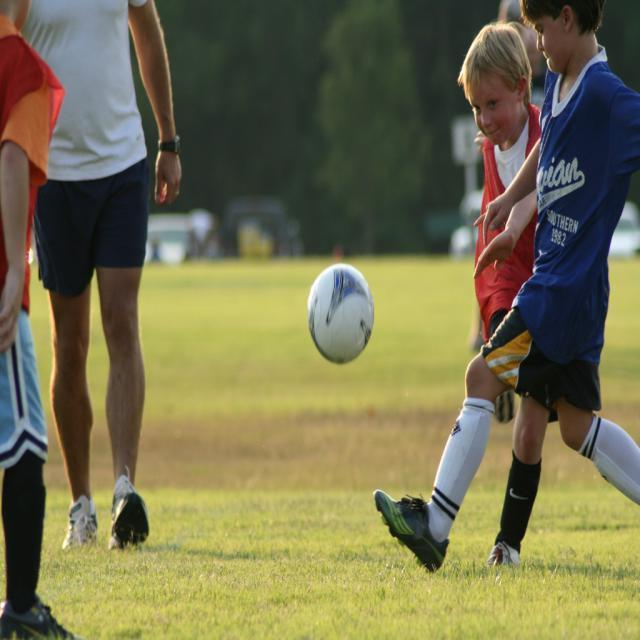football: (303, 258, 382, 371)
